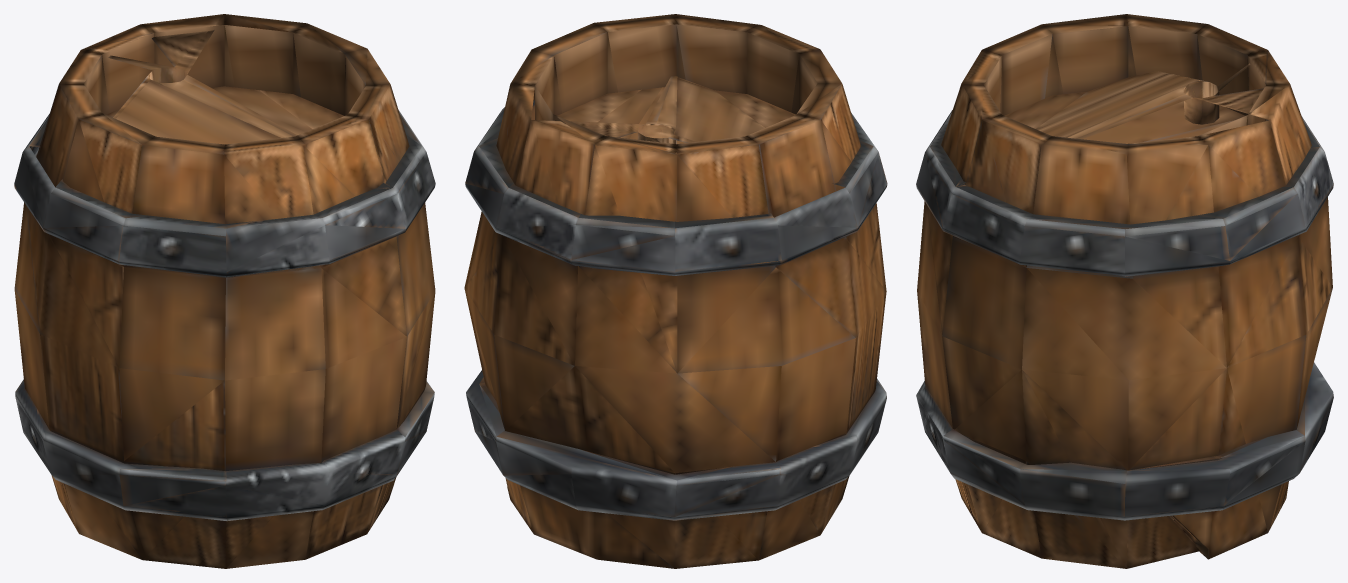
The model's file is prop_barrel.glb.
The picture shows the model from 3 angles, left to right: view 1: azimuth 30°, elevation 25°; view 2: azimuth 150°, elevation 25°; view 3: azimuth 270°, elevation 25°; orthographic projection.
Size of the model in its own units: 1.01 by 1.1 by 1.
1 material, 1 textured.
